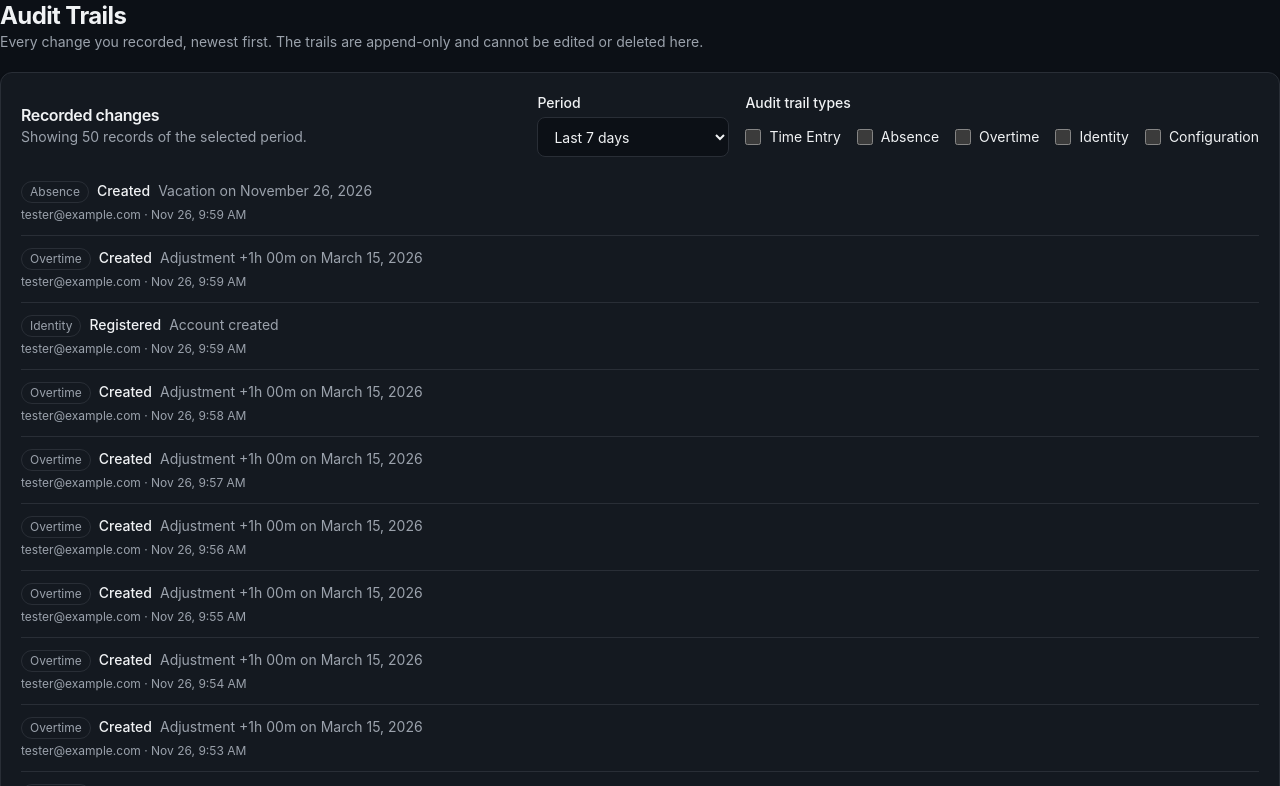
Test: AuditTrailsPage › does not offer pages from trails unrelated to the selected types
The image size is (1280, 786).
Click the checkbox labelled "Absence". click: (865, 137)
box: [857,129,873,145]
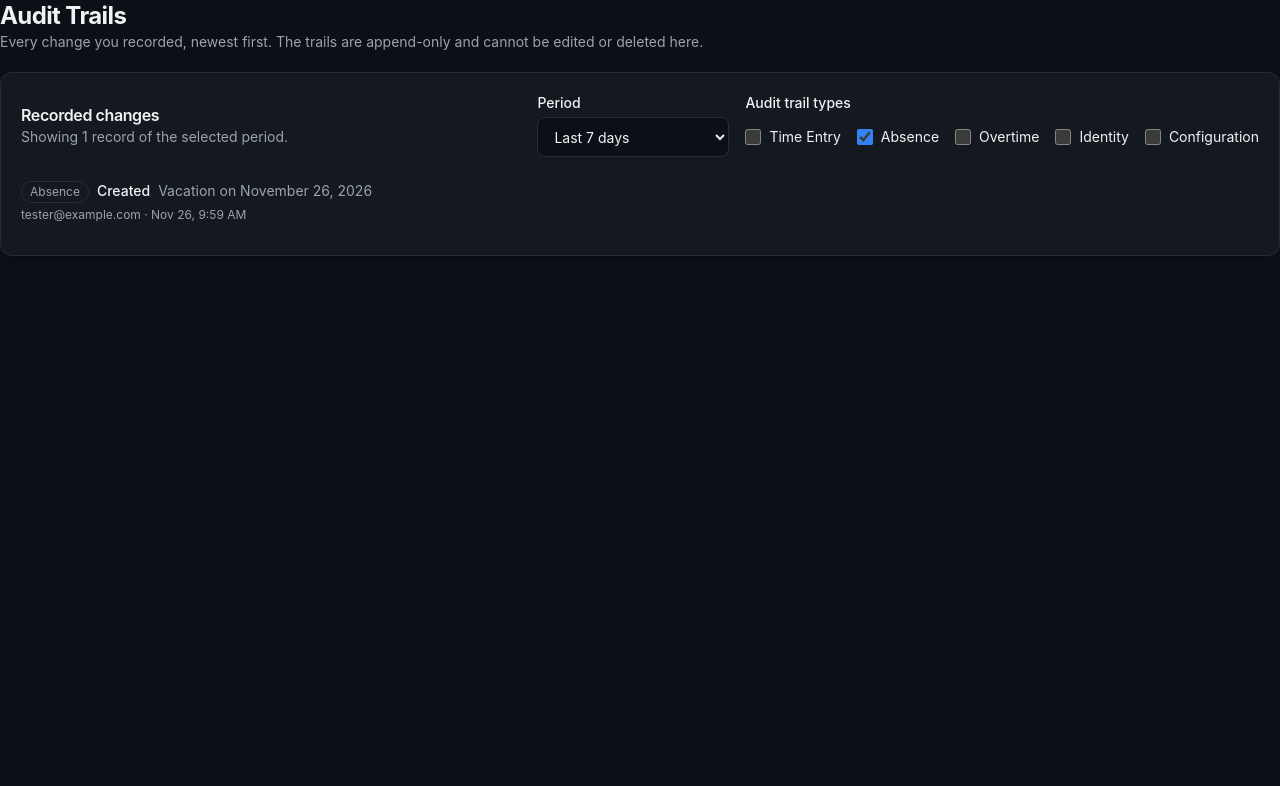
Now the number of list items is 1, box [21,181,372,222]
